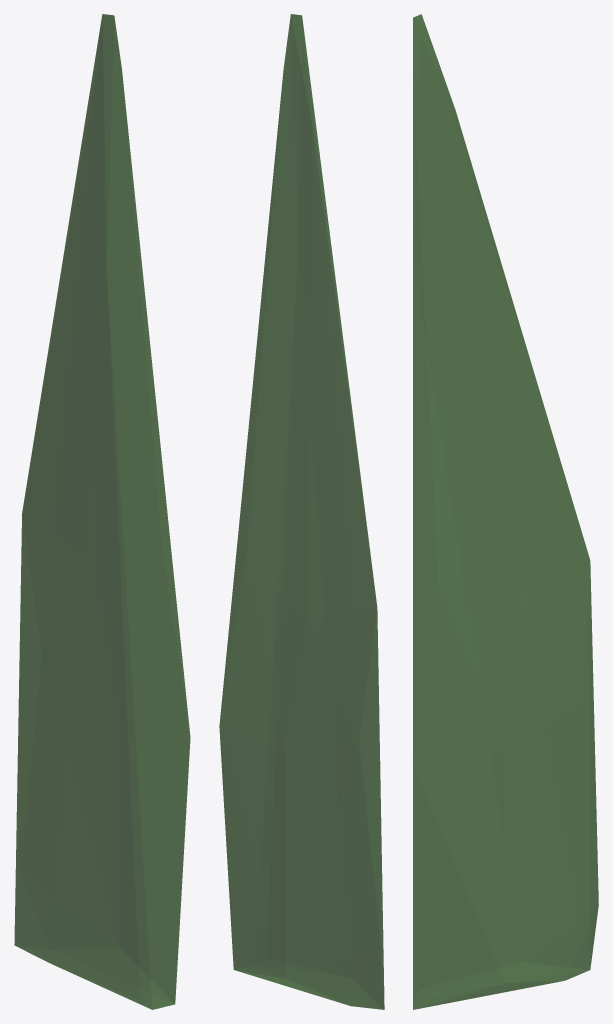
The picture shows the model from 3 angles, left to right: view 1: azimuth 30°, elevation 25°; view 2: azimuth 210°, elevation 25°; view 3: azimuth 270°, elevation 25°; orthographic projection. The views are drawn at different scales.
Visible parts, largest first — view 1: Shape_IndexedFaceSet.067_Shape_IndexedFaceSet.9875; view 2: Shape_IndexedFaceSet.067_Shape_IndexedFaceSet.9875; view 3: Shape_IndexedFaceSet.067_Shape_IndexedFaceSet.9875.
Boxes of the visible parts, x1,y1,x2,y2 form: Shape_IndexedFaceSet.067_Shape_IndexedFaceSet.9875: (14, 14, 190, 1009); Shape_IndexedFaceSet.067_Shape_IndexedFaceSet.9875: (219, 14, 384, 1009); Shape_IndexedFaceSet.067_Shape_IndexedFaceSet.9875: (413, 14, 598, 1009).
Size of the model in its own units: 0.0625 by 0.7155 by 0.1249.
